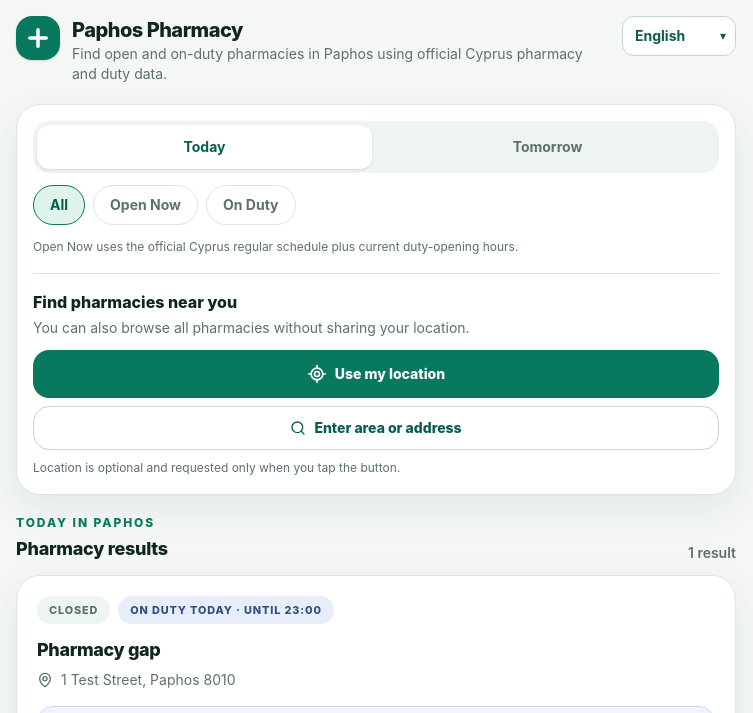
Test: PharmacyFinder official duty hours › keeps a scheduled gap on duty without labelling it open
Click the button "Open Now".
click(146, 205)  # box [93,185,198,225]
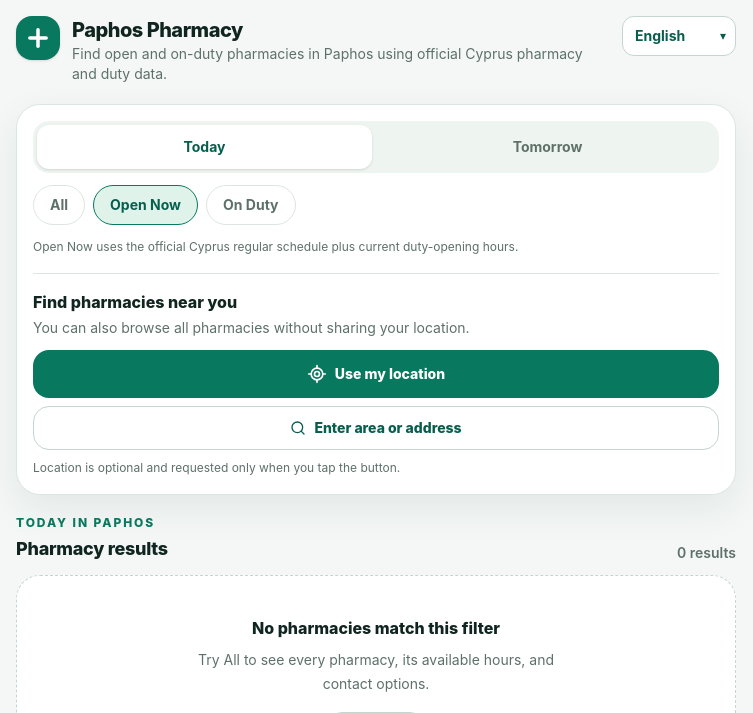
Expected: the heading "No pharmacies match this filter" is shown, [252,618,500,638]
